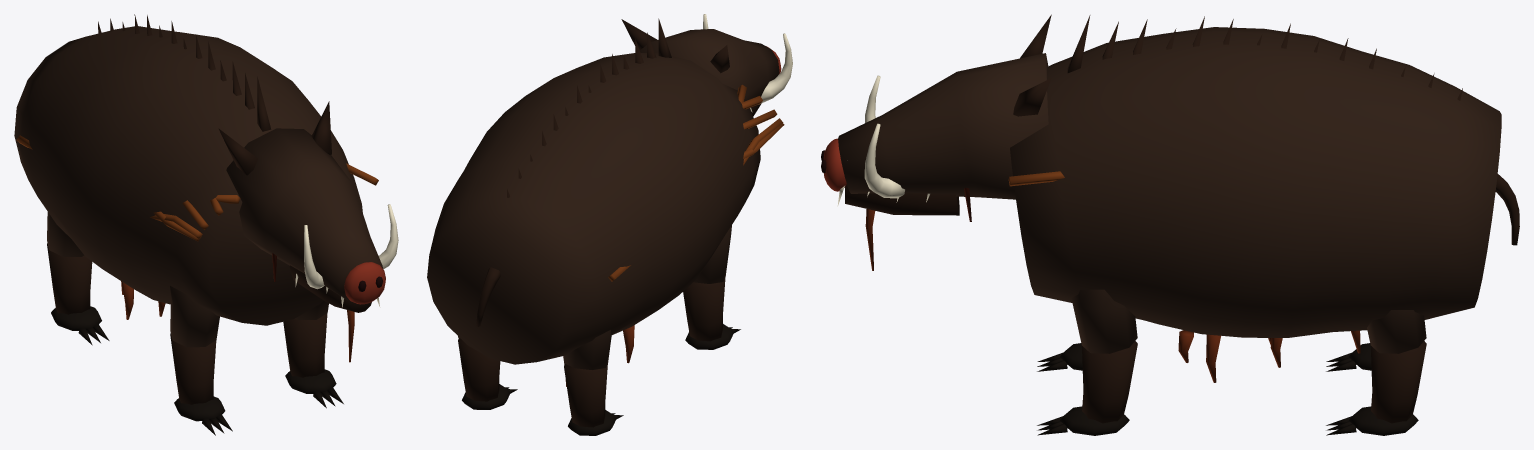
File: javali_tinta.glb
3 views of the same model, side by side, from view 1: azimuth 30°, elevation 25°; view 2: azimuth 150°, elevation 25°; view 3: azimuth 270°, elevation 25° (orthographic). The views are drawn at different scales.
Parts seen in each view (by area): view 1: P_torso, P_head, P_kneeFR, P_kneeBR, P_kneeFL, P_legFR, P_jaw, P_legBR; view 2: P_torso, P_head, P_kneeBR, P_kneeFR, P_kneeBL, P_legBR, P_legFR, P_tail; view 3: P_torso, P_head, P_kneeFL, P_kneeBL, P_legFL, P_jaw, P_legBL, P_kneeFR, P_tail, P_kneeBR.
Part boxes in pixels (left/top/right/bottom): P_torso: left=14, top=14, right=378, bottom=325; P_head: left=218, top=101, right=398, bottom=307; P_kneeFR: left=170, top=333, right=232, bottom=435; P_kneeBR: left=47, top=243, right=109, bottom=345; P_kneeFL: left=283, top=313, right=343, bottom=408; P_legFR: left=170, top=286, right=219, bottom=347; P_jaw: left=289, top=265, right=371, bottom=362; P_legBR: left=47, top=212, right=84, bottom=256; P_torso: left=427, top=18, right=784, bottom=386; P_head: left=621, top=14, right=792, bottom=112; P_kneeBR: left=564, top=364, right=623, bottom=435; P_kneeFR: left=683, top=278, right=740, bottom=349; P_kneeBL: left=458, top=338, right=517, bottom=409; P_legBR: left=564, top=330, right=611, bottom=369; P_legFR: left=693, top=225, right=731, bottom=283; P_tail: left=476, top=267, right=500, bottom=326; P_torso: left=1008, top=15, right=1501, bottom=382; P_head: left=821, top=14, right=1051, bottom=221; P_kneeFL: left=1037, top=341, right=1137, bottom=435; P_kneeBL: left=1326, top=341, right=1426, bottom=435; P_legFL: left=1071, top=289, right=1137, bottom=353; P_jaw: left=845, top=184, right=959, bottom=270; P_legBL: left=1367, top=310, right=1426, bottom=353; P_kneeFR: left=1037, top=343, right=1082, bottom=371; P_tail: left=1495, top=174, right=1519, bottom=245; P_kneeBR: left=1326, top=343, right=1371, bottom=371.
Bounding box in the file's own units: 0.8271 × 1.13 × 1.86.
